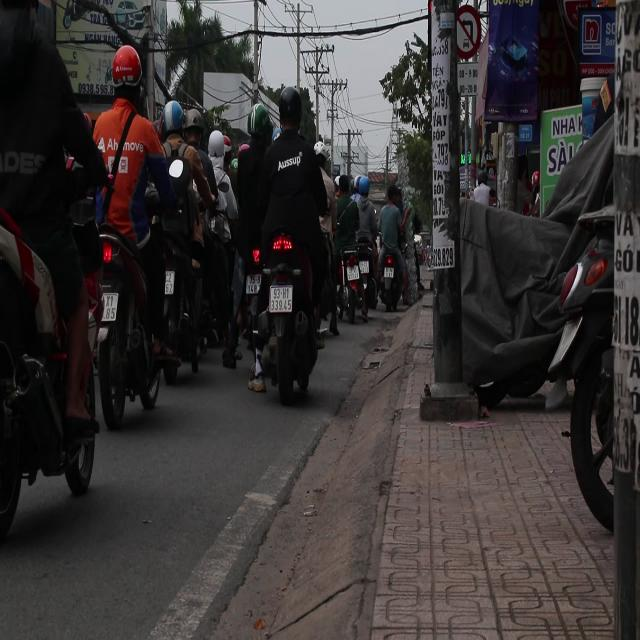motorbike: (540, 157, 638, 572), (0, 172, 98, 565), (90, 176, 163, 432), (242, 219, 324, 404), (152, 156, 212, 384), (377, 241, 408, 312)
